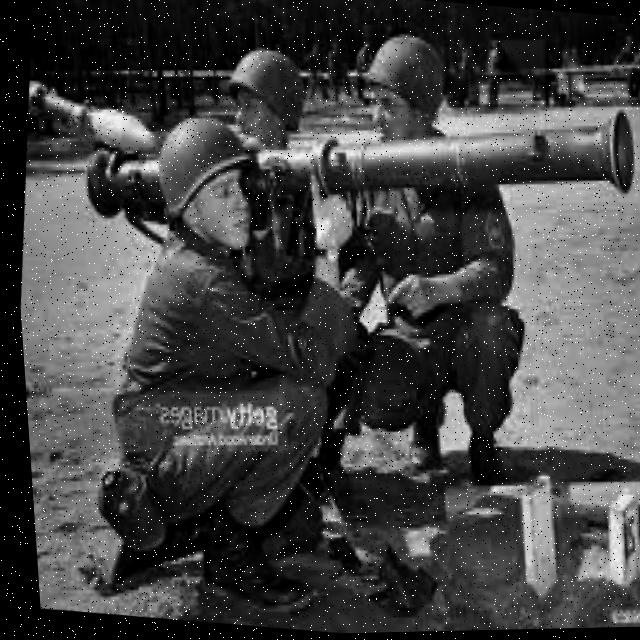rocket: (70, 50, 640, 276)
